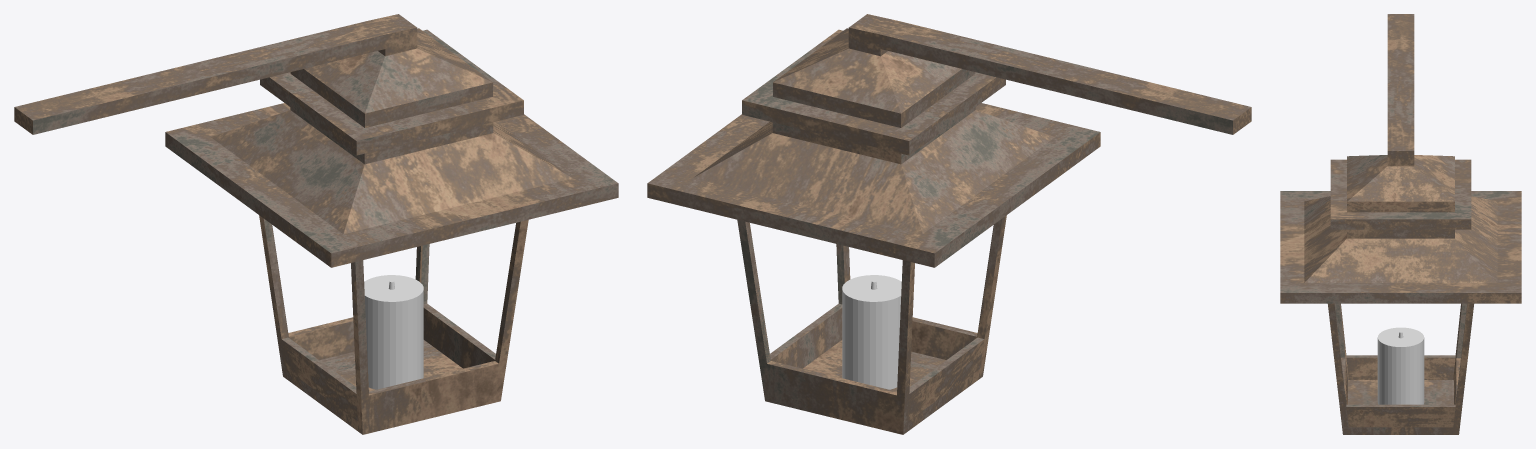
File: Lanterna.fbx
3 renders of one model, left to right at view 1: azimuth 30°, elevation 25°; view 2: azimuth 150°, elevation 25°; view 3: azimuth 270°, elevation 25°, orthographic. The views are drawn at different scales.
Visible parts, largest first — view 1: Lantern, Candle; view 2: Lantern, Candle; view 3: Lantern, Candle.
Part boxes in pixels (x1,y1,x2,y2): Lantern: (14, 14, 618, 434); Candle: (364, 275, 423, 389); Lantern: (647, 14, 1251, 434); Candle: (842, 275, 901, 389); Lantern: (1280, 14, 1521, 434); Candle: (1377, 327, 1424, 404).
Bounding box in the file's own units: 741 × 505 × 416.
2 materials, 1 textured.
